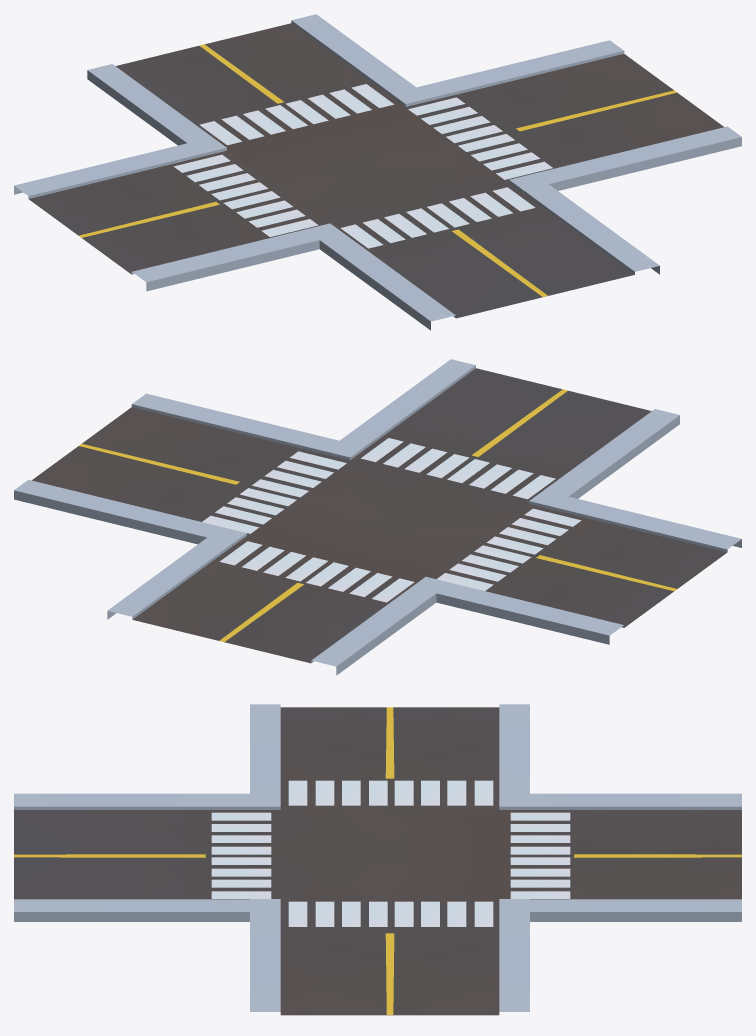
File: road4.fbx
The picture shows the model from 3 angles, top to bottom: view 1: azimuth 30°, elevation 25°; view 2: azimuth 150°, elevation 25°; view 3: azimuth 270°, elevation 25°; orthographic projection. The views are drawn at different scales.
Visible parts, largest first — view 1: Roads.4; view 2: Roads.4; view 3: Roads.4.
Boxes of the visible parts, bbox=[...] form: Roads.4: bbox=[14, 14, 741, 330]; Roads.4: bbox=[14, 359, 741, 675]; Roads.4: bbox=[14, 704, 741, 1015].
Size of the model in its own units: 1266 by 18.71 by 1265.
